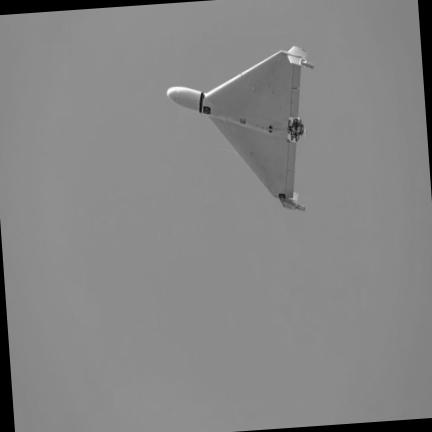Shahed: (167, 47, 312, 210)
